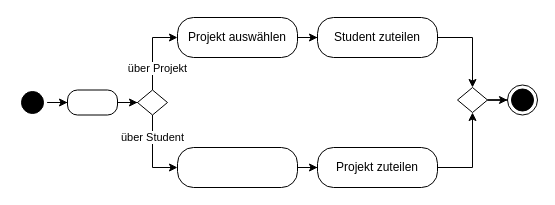
Some shapes in this 555 by 205 pixel diagram are drawn without their labels. The centre of each missing label's shape, as x and y in pixels:
"login" belongs at (x=92, y=102).
"Student auswählen" belongs at (x=237, y=167).
